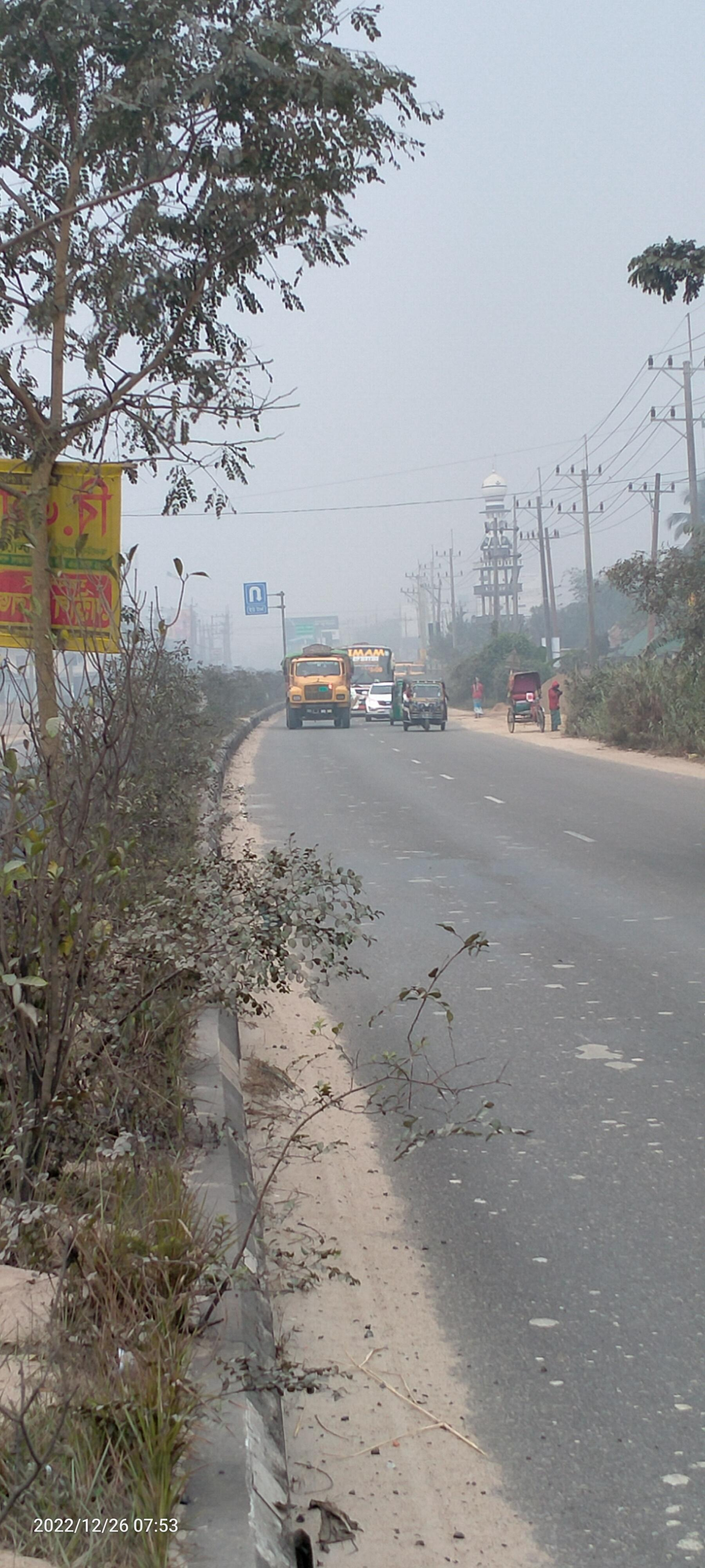Bus: (338, 635, 395, 717)
Car: (364, 680, 398, 726)
Truck: (278, 643, 357, 730)
